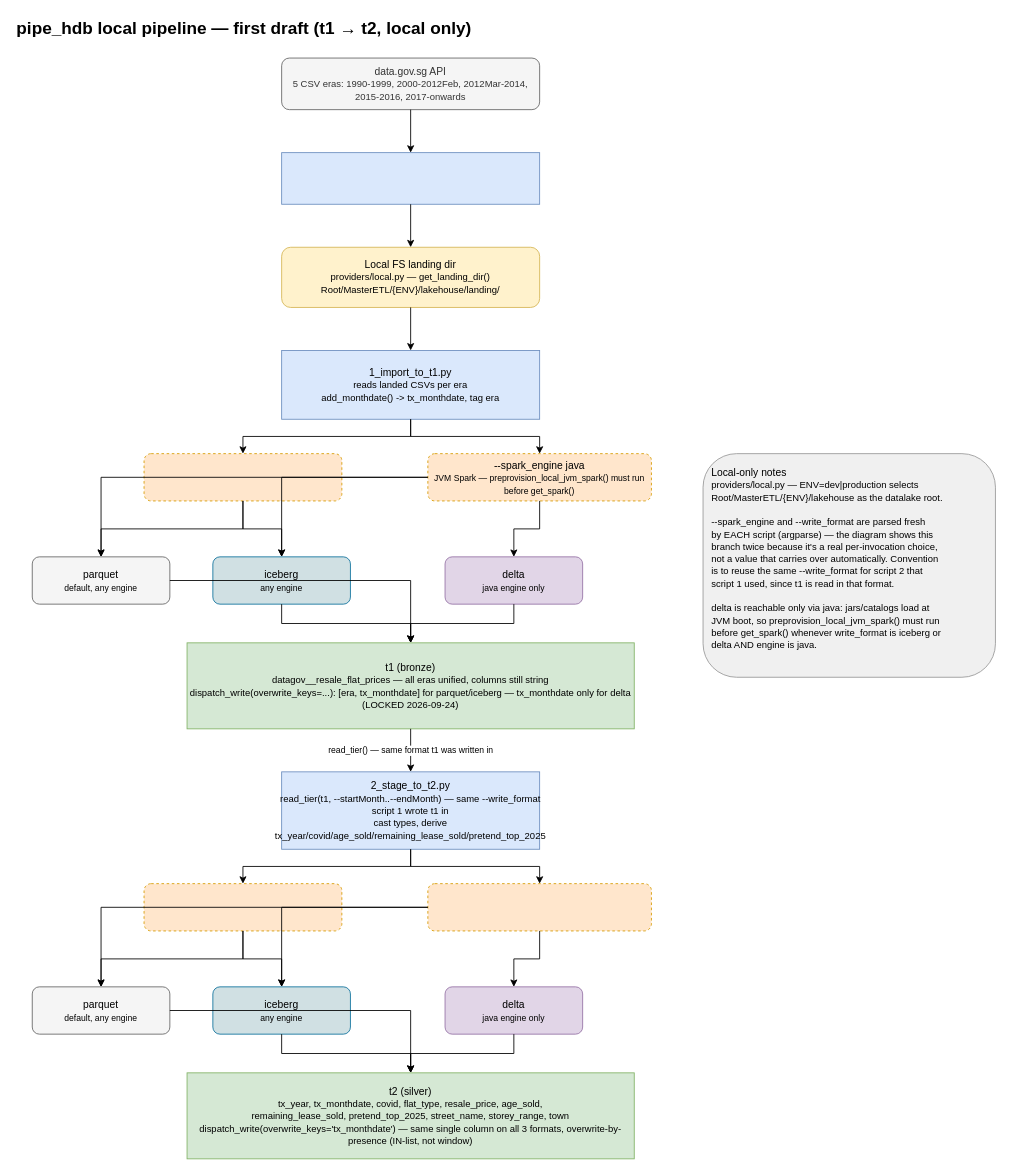
This 1011x1174 diagram has some shape labels left out. Here are the shapes that lost their labels. From the top down, the centre of each, then its label:
the point at 410,178: 0_land_csv.py fetch_datagov_csv() per era, --mode update|backfill
the point at 242,477: --spark_engine sail PySail (default) — no JVM preprovision needed
the point at 242,907: --spark_engine sail PySail (default)
the point at 539,907: --spark_engine java JVM Spark — preprovision_local_jvm_spark() first
